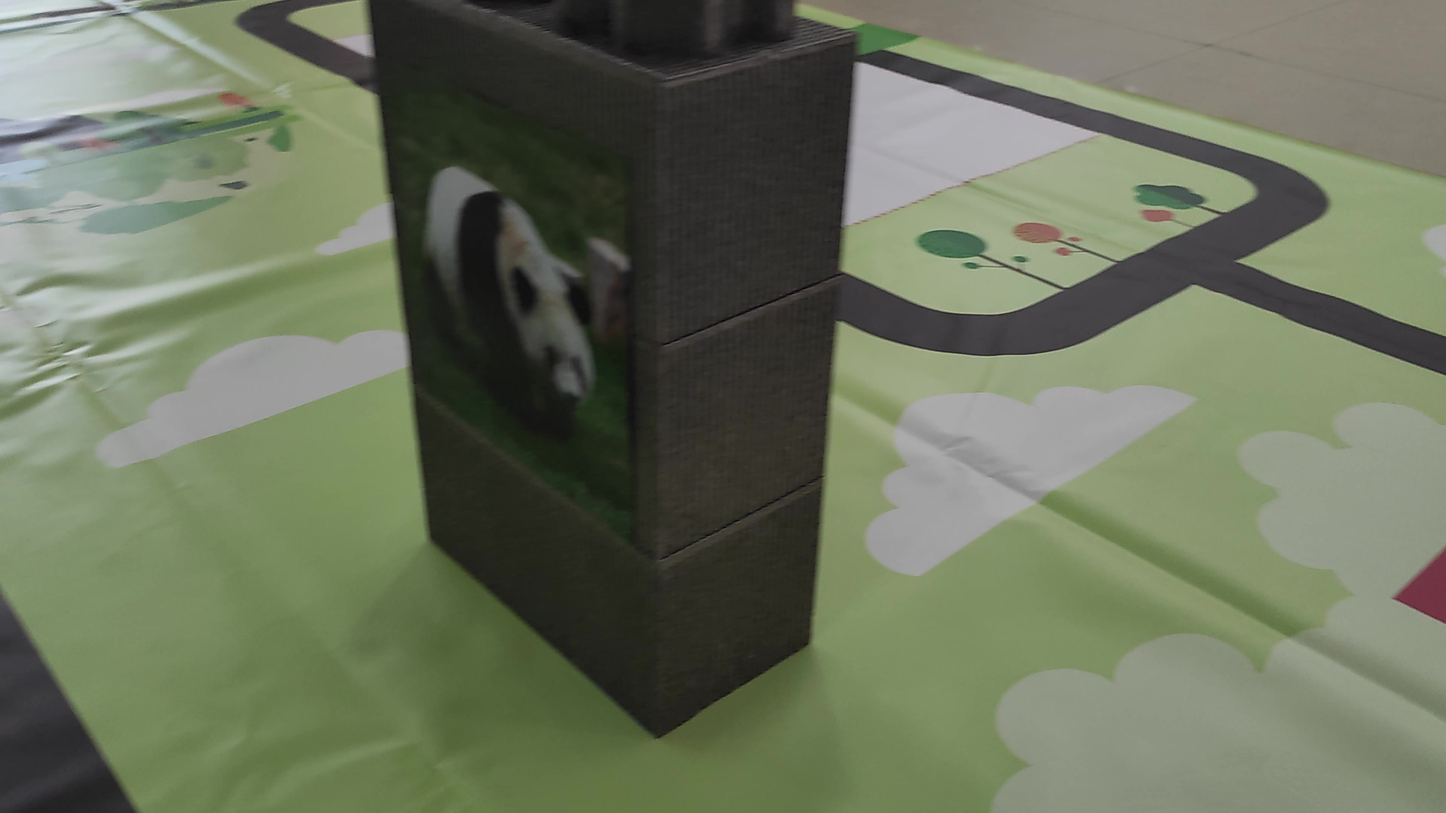panda: (410, 146, 648, 455)
